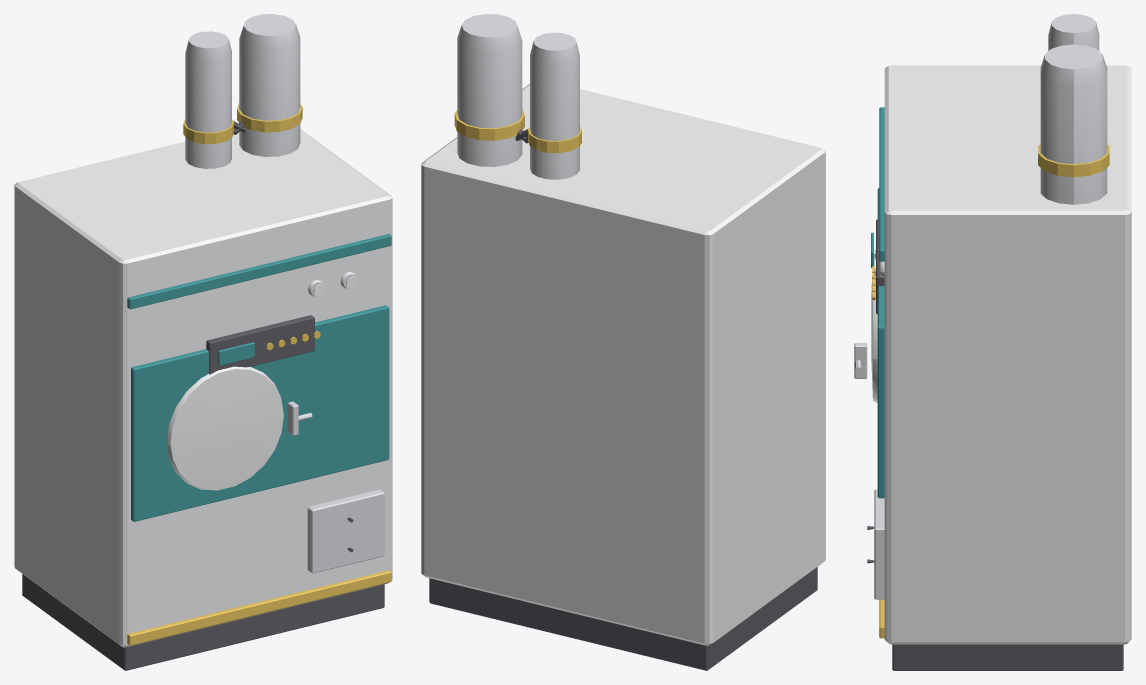
The model's file is dry-cleaners-and-alterations-shop-dry-cleaning-machine-d685cd73__34950.glb.
3 renders of one model, left to right at view 1: azimuth 30°, elevation 25°; view 2: azimuth 150°, elevation 25°; view 3: azimuth 270°, elevation 25°, orthographic. The views are drawn at different scales.
Visible parts, largest first — view 1: dry-cleaning-machine, machine-door/panel; view 2: dry-cleaning-machine; view 3: dry-cleaning-machine, machine-door/panel, machine-door/metal.
Part boxes in pixels (box(x1,y1,x2,y2)): dry-cleaning-machine: box(14, 14, 392, 670); machine-door/panel: box(166, 366, 283, 490); dry-cleaning-machine: box(421, 14, 825, 670); dry-cleaning-machine: box(867, 14, 1131, 670); machine-door/panel: box(871, 254, 877, 402); machine-door/metal: box(854, 343, 867, 378).
Bounding box in the file's own units: 1.34 × 2.5 × 1.06.
